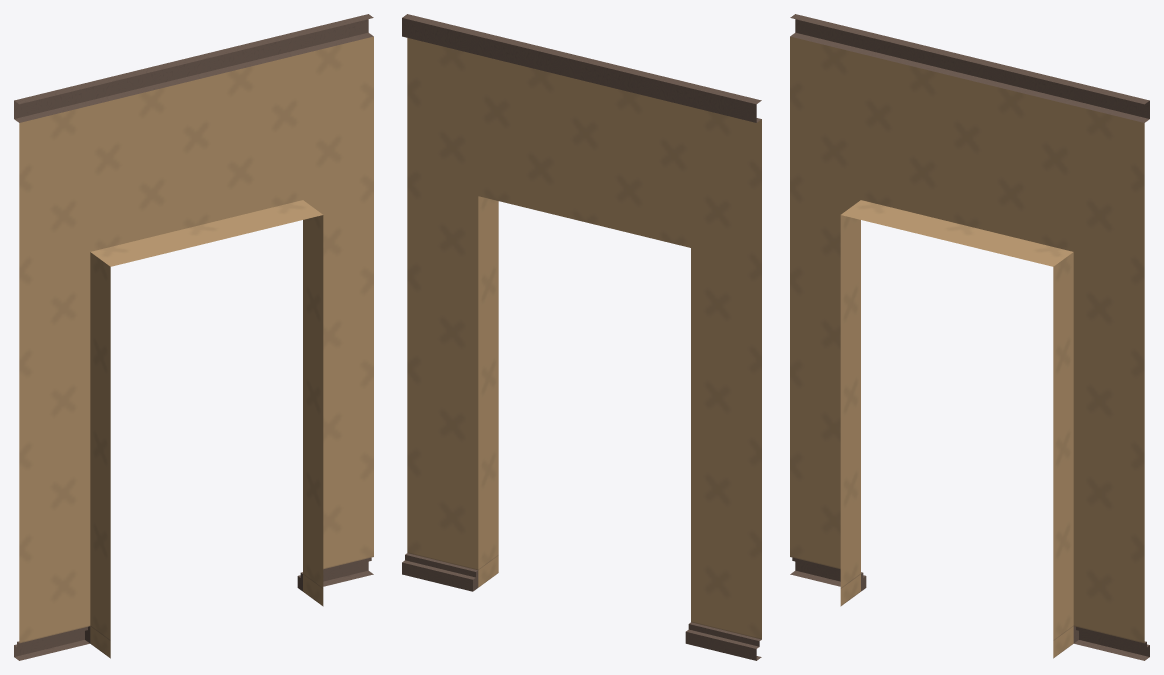
Rendered from Wall Room Doorframe Larger.fbx.
The picture shows the model from 3 angles, left to right: view 1: azimuth 30°, elevation 25°; view 2: azimuth 150°, elevation 25°; view 3: azimuth 330°, elevation 25°; orthographic projection.
Parts seen in each view (by area): view 1: Wall Room Doorframe Larger.001; view 2: Wall Room Doorframe Larger.001; view 3: Wall Room Doorframe Larger.001.
Boxes of the visible parts, x1,y1,x2,y2 form: Wall Room Doorframe Larger.001: (14, 14, 373, 660); Wall Room Doorframe Larger.001: (402, 14, 761, 660); Wall Room Doorframe Larger.001: (790, 14, 1149, 660).
Bounding box in the file's own units: 4 × 6 × 0.5023.
